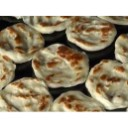parota: (32, 45, 89, 87), (88, 58, 128, 108), (4, 76, 52, 114), (1, 22, 40, 60), (71, 18, 114, 50)
